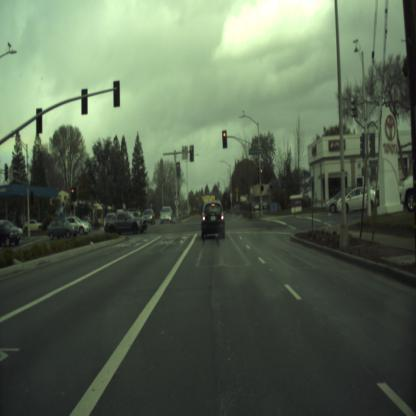Red: (222, 130, 227, 147), (260, 168, 262, 180)
RedLeft: (189, 145, 194, 162), (176, 162, 180, 176), (71, 188, 74, 200)
